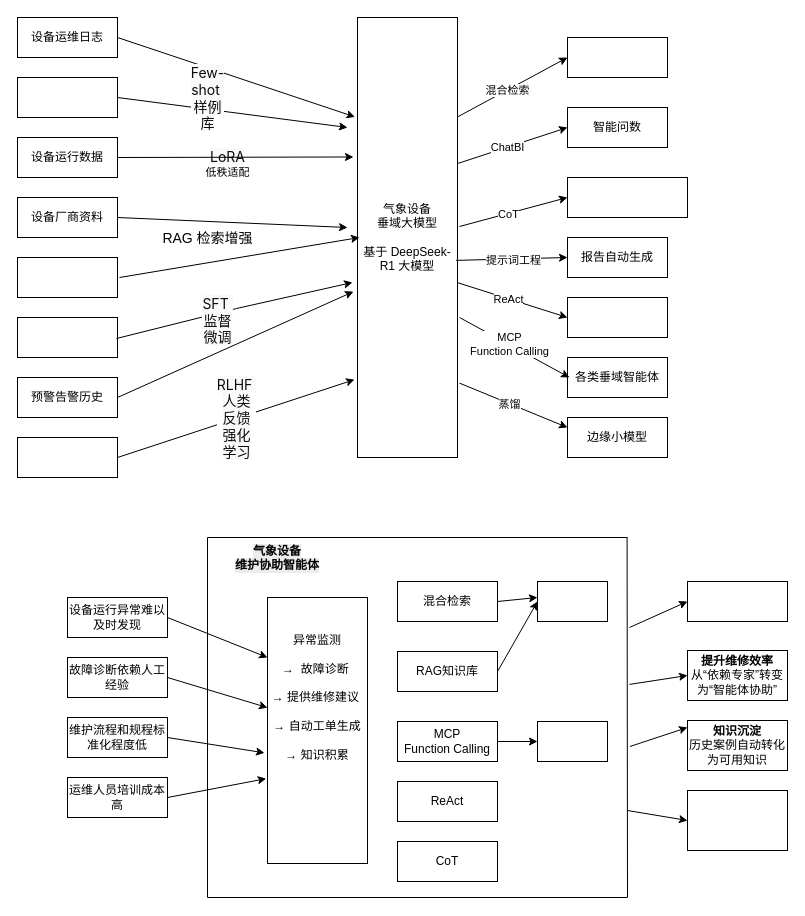
The diagram is 805 pixels wide and 916 high, and some of its shapes have lost their labels. Each missing label, with the centre of its shape:
专业问答: point 617,57
人类实时反馈: point 67,457
公开论文/案例: point 67,277
减少停机时间 提前发现隐患: point 737,601
历史工单: point 67,97
工单系统: point 572,741
智能问答机器人: point 572,601
装备自适应调控: point 617,317
计量检定数据: point 67,337
设备监控/运维建议: point 627,197
赋能边缘运维 在无人值守站点，智能体可直接辅助 执行: point 737,820
